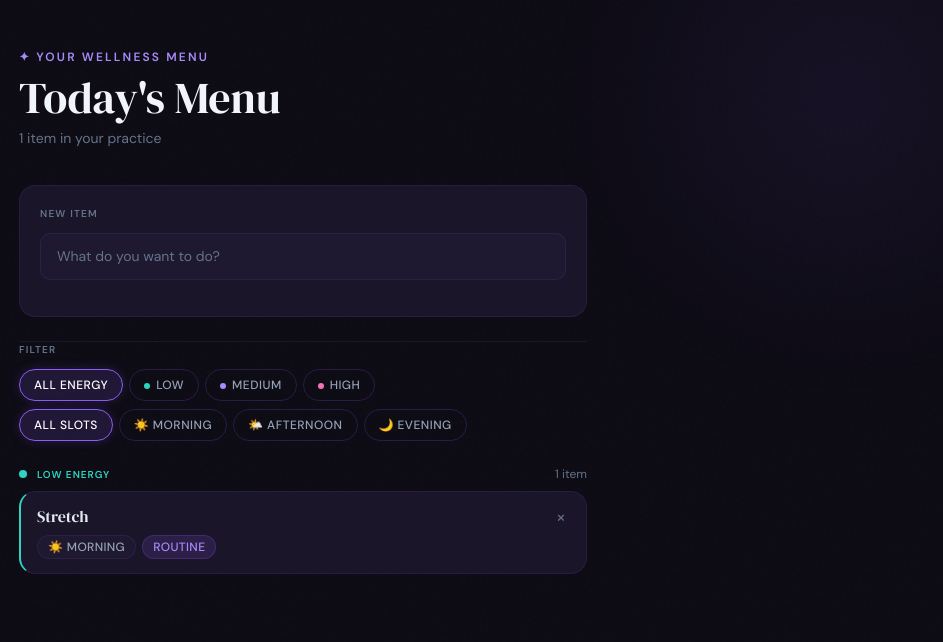
Scenario: App — delete flow › removes an item from the list after clicking delete
Expected: the text "Stretch" is shown, [37, 505, 88, 527]
Click the button named "Delete" at [561, 517], box [552, 506, 570, 528]
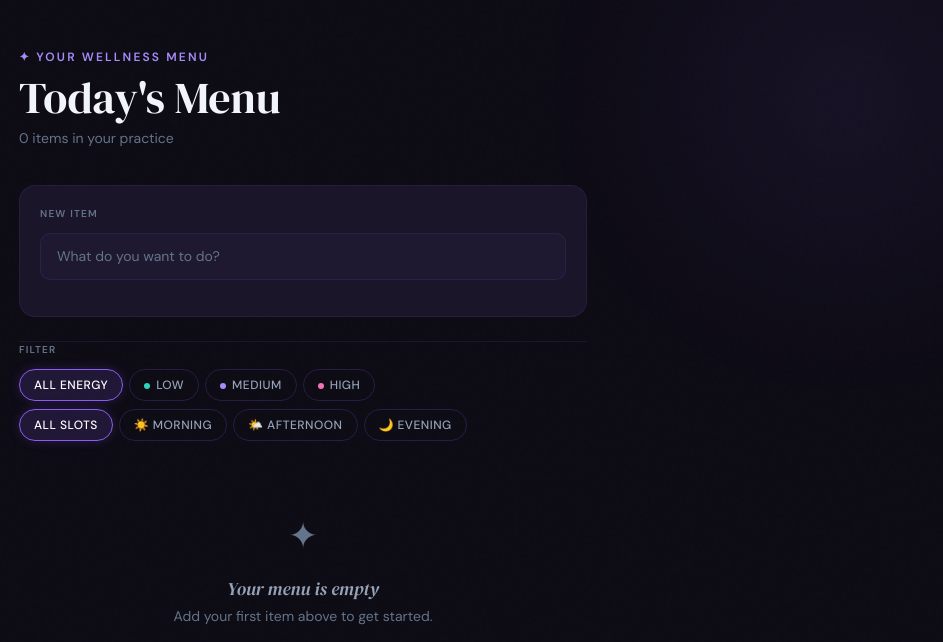
Expected: the text "Stretch" is gone
